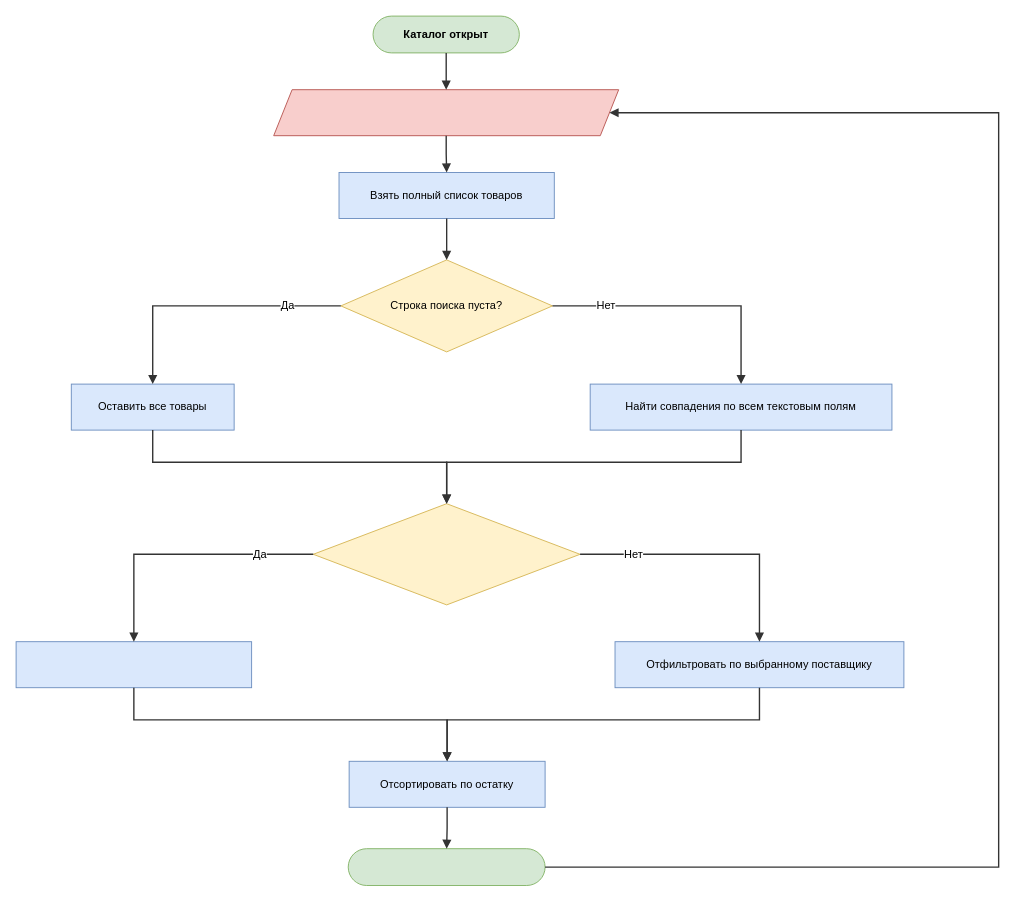
Some shapes in this 1023 by 902 pixel diagram are drawn without their labels. Here are the shapes that lost their labels. From the top down, the centre of each, then its label:
At [446,112]: "Изменить поиск, поставщика или сортировку".
At [446,554]: "Выбран «Все поставщики»?".
At [133,664]: "Не применять фильтр поставщика".
At [446,867]: "Сразу обновить список".
